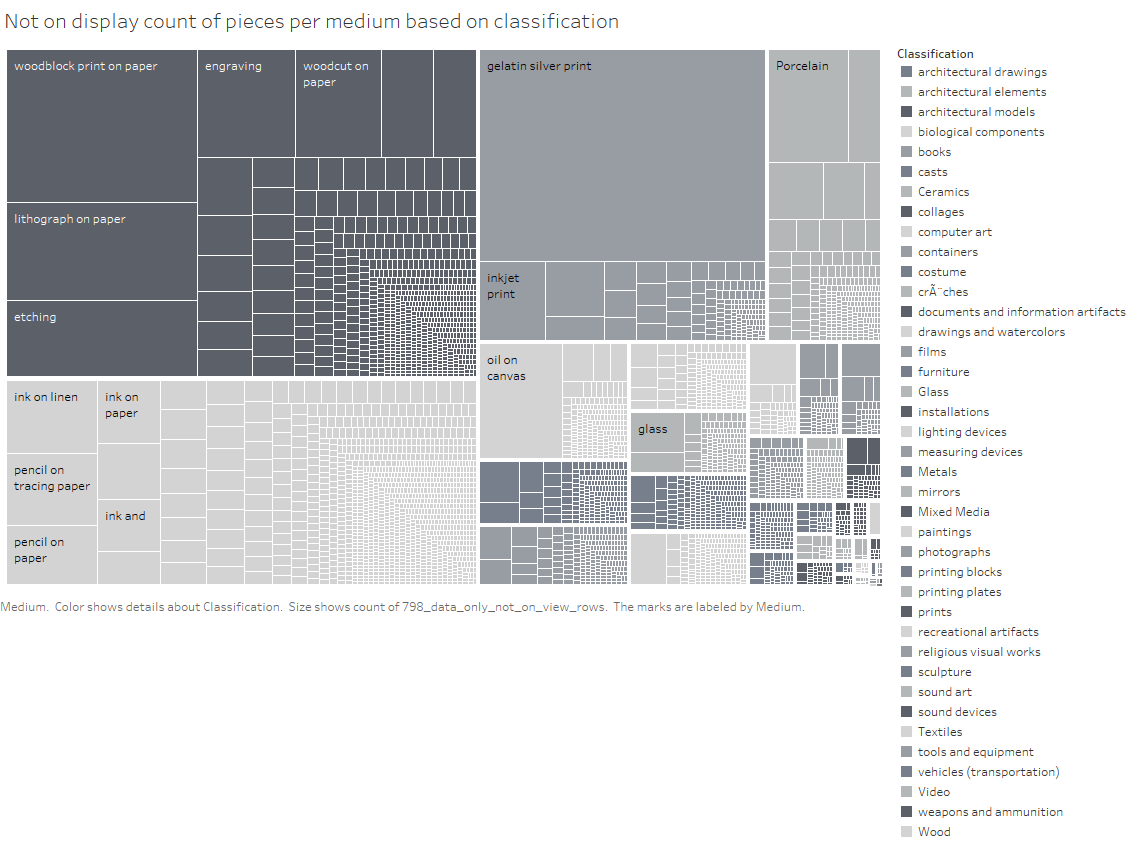

The page's visual inventory and layout, read from the dashboard file:
{"tool":"tableau","page":{"name":"Dashboard 1","canvas":[1000,800],"ordinal":0},"visuals":[{"type":"worksheet","title":"Sheet 2","mark":"Automatic","rows":["798!data!only!not!on!view!rows_52761707DF0A46CA932B8A59ADC1F"],"cols":["date_acquired"],"box":[8,8,984,784]}]}

Visuals, with their boxes on the page's 1000x800 design canvas (x1, y1, x2, y2). These are canvas units, not pixel positions in the 1131x841 screenshot, which may show the page scaled, cropped or inside an application window:
"Sheet 2" worksheet: <region>8, 8, 992, 792</region>
